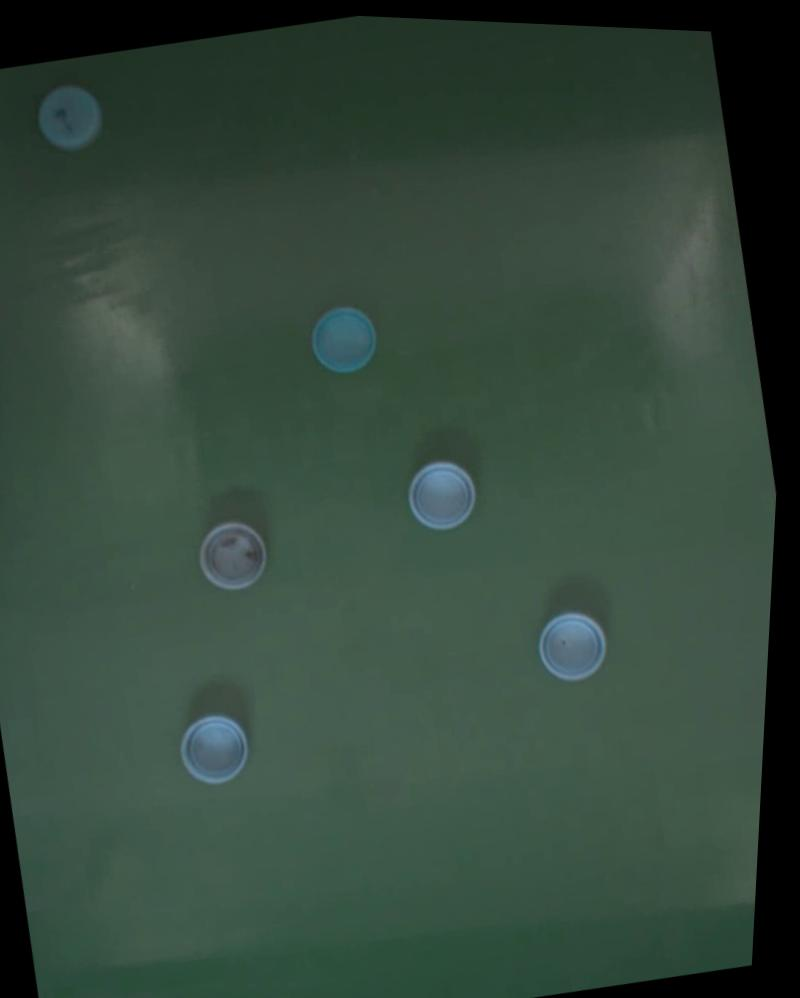light_blue: (530, 601, 614, 685), (171, 706, 254, 791), (189, 512, 272, 596), (399, 452, 483, 535), (302, 298, 383, 378), (26, 76, 108, 155)
